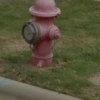Hydrant: (16, 2, 71, 71)
